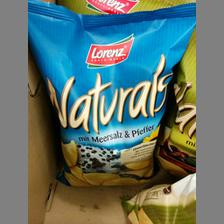Chips: (28, 4, 176, 188)
